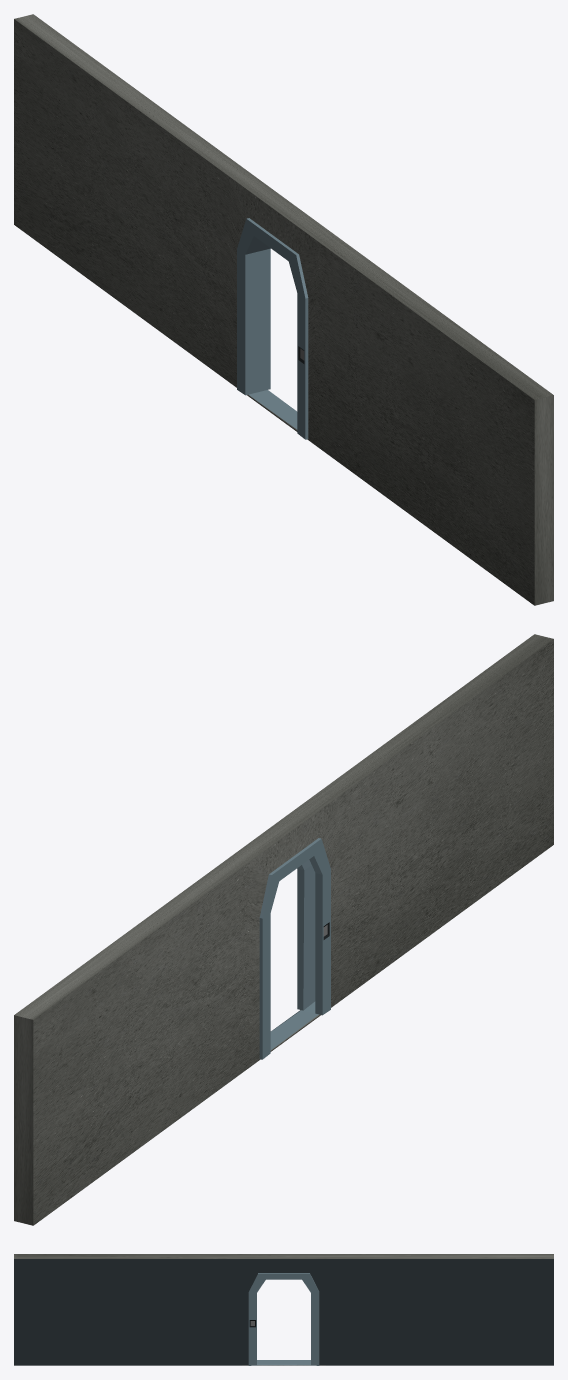
The model's file is ParedConectorNets.fbx.
3 renders of one model, top to bottom at view 1: azimuth 30°, elevation 25°; view 2: azimuth 150°, elevation 25°; view 3: azimuth 270°, elevation 25°, orthographic. The views are drawn at different scales.
Parts seen in each view (by area): view 1: Cube.008; view 2: Cube.008; view 3: Cube.008.
Part boxes in pixels (left/top/right/bottom): Cube.008: left=14, top=14, right=553, bottom=605; Cube.008: left=14, top=634, right=553, bottom=1225; Cube.008: left=14, top=1254, right=553, bottom=1365.
Size of the model in its own units: 40.31 by 312 by 1430.
Materials: 2 (2 with a texture image).
